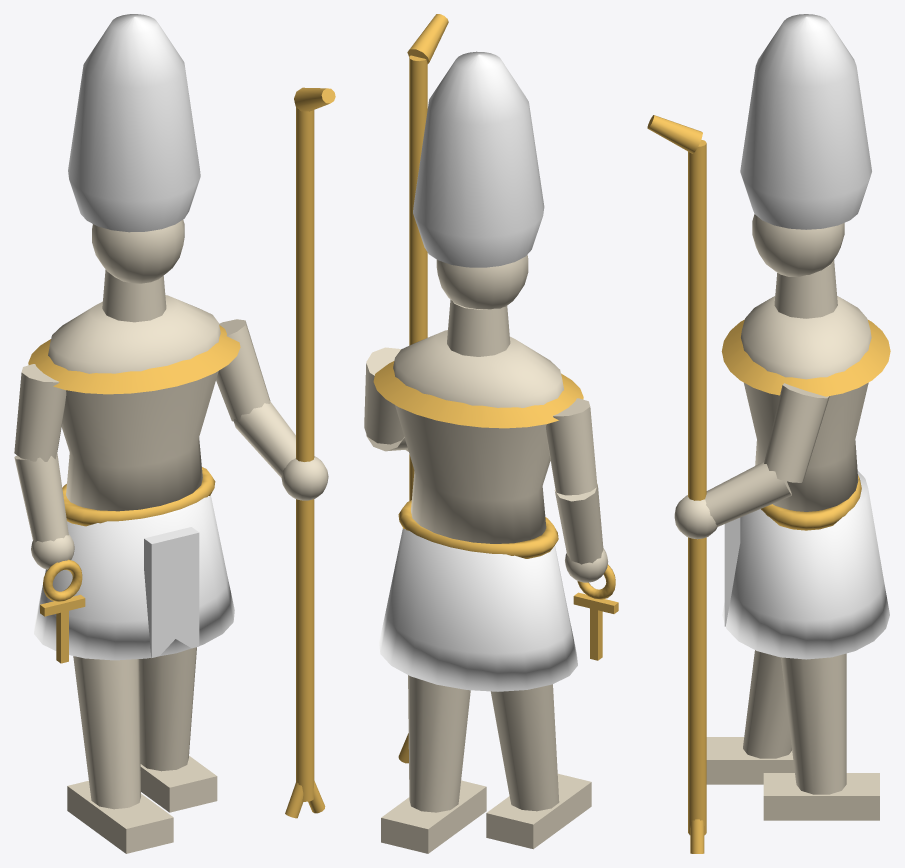
Rendered from god.glb.
3 renders of one model, left to right at view 1: azimuth 30°, elevation 25°; view 2: azimuth 150°, elevation 25°; view 3: azimuth 270°, elevation 25°, orthographic.
Parts seen in each view (by area): view 1: figurka; view 2: figurka; view 3: figurka.
Part boxes in pixels (x1=…): figurka: x1=14, y1=14, x2=335, y2=853; figurka: x1=364, y1=14, x2=618, y2=853; figurka: x1=647, y1=14, x2=890, y2=853.
Bounding box in the file's own units: 0.3729 × 1.1 × 0.3131.
